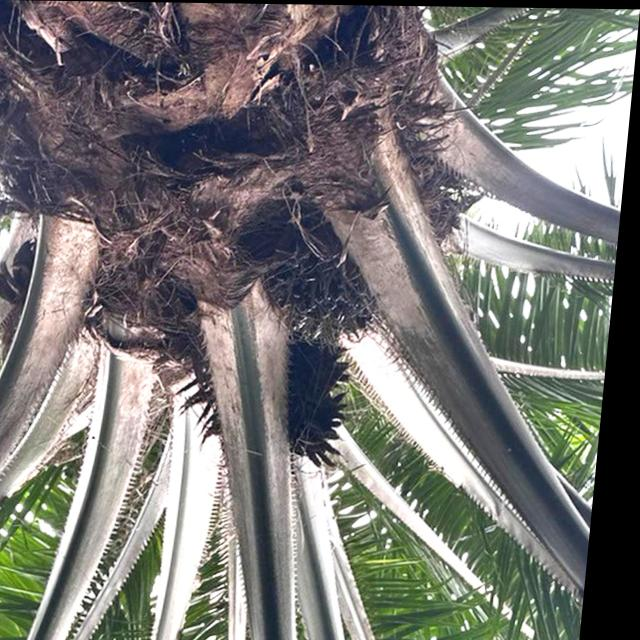unripe: (260, 216, 397, 347)
